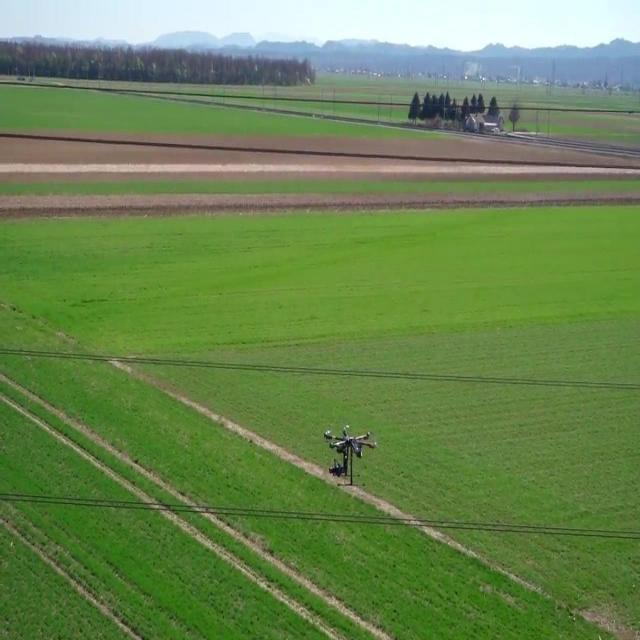UAV: (324, 425, 377, 486)
